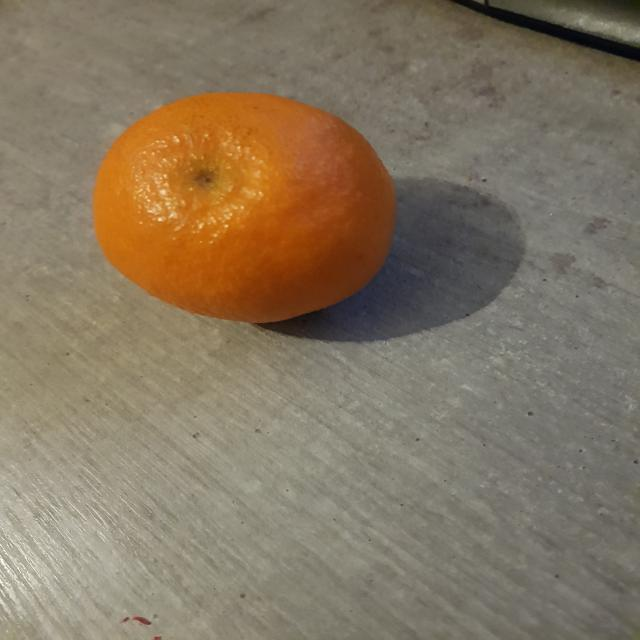Orange: (91, 92, 398, 325)
